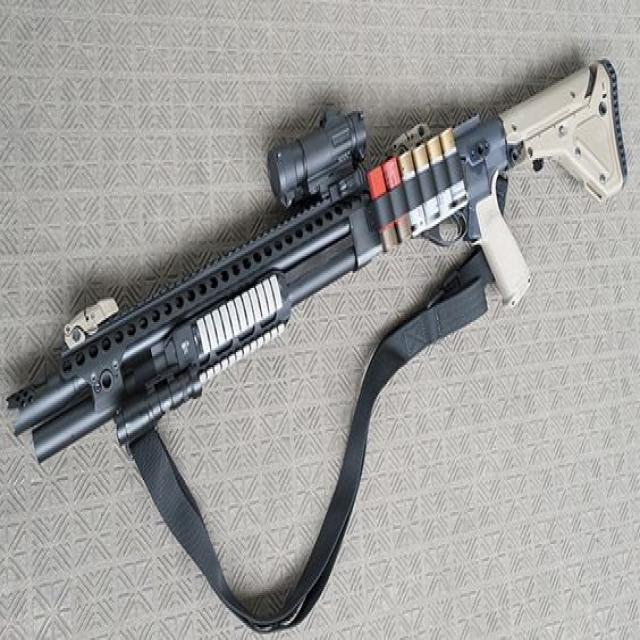shotgun: (0, 31, 640, 492)
